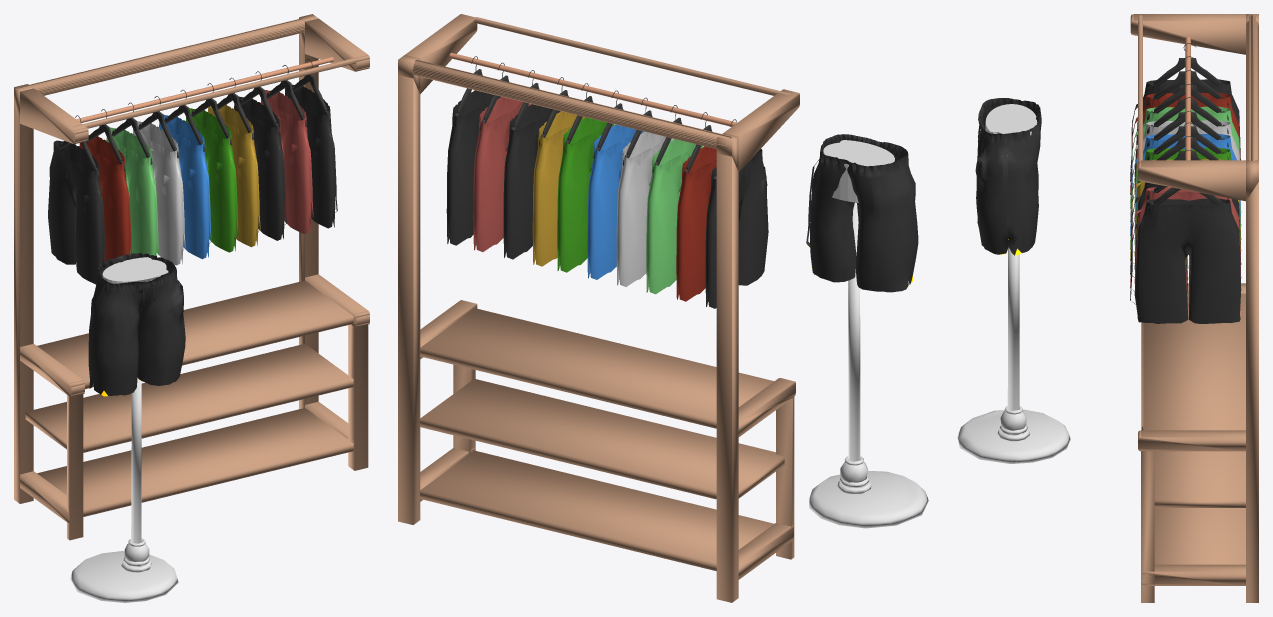
Rendered from Sports_shorts.fbx.
3 renders of one model, left to right at view 1: azimuth 30°, elevation 25°; view 2: azimuth 150°, elevation 25°; view 3: azimuth 270°, elevation 25°, orthographic. The views are drawn at different scales.
Parts seen in each view (by area): view 1: Pattern2D_5081.011, AAA Pants edit.009, Shorts_Mannequin, Cylinder.019; view 2: Pattern2D_5081.011, AAA Pants edit.009, Shorts_Mannequin, Cylinder.019; view 3: Pattern2D_5081.011, AAA Pants edit.009, Shorts_Mannequin, Cylinder.019, AM_102_035_002.014, AM_102_035_002.012, AM_102_035_002.015, AM_102_035_002.016, AM_102_035_002.013, AM_102_035_002.017, AM_102_035_002.018.
Boxes of the visible parts, x1,y1,x2,y2 form: Pattern2D_5081.011: (14, 14, 369, 540); AAA Pants edit.009: (48, 84, 337, 284); Shorts_Mannequin: (70, 253, 185, 602); Cylinder.019: (76, 57, 333, 122); Pattern2D_5081.011: (398, 14, 799, 602); AAA Pants edit.009: (446, 90, 768, 308); Shorts_Mannequin: (806, 134, 928, 528); Cylinder.019: (449, 53, 737, 126); Pattern2D_5081.011: (1130, 14, 1258, 602); AAA Pants edit.009: (1130, 79, 1241, 323); Shorts_Mannequin: (957, 98, 1070, 463); Cylinder.019: (1185, 36, 1190, 160); AM_102_035_002.014: (1147, 70, 1228, 120); AM_102_035_002.012: (1147, 43, 1228, 93); AM_102_035_002.015: (1147, 84, 1228, 134); AM_102_035_002.016: (1147, 97, 1228, 147); AM_102_035_002.013: (1147, 56, 1228, 106); AM_102_035_002.017: (1147, 111, 1228, 160); AM_102_035_002.018: (1156, 122, 1218, 160).
Size of the model in its own units: 272 by 306 by 192.
